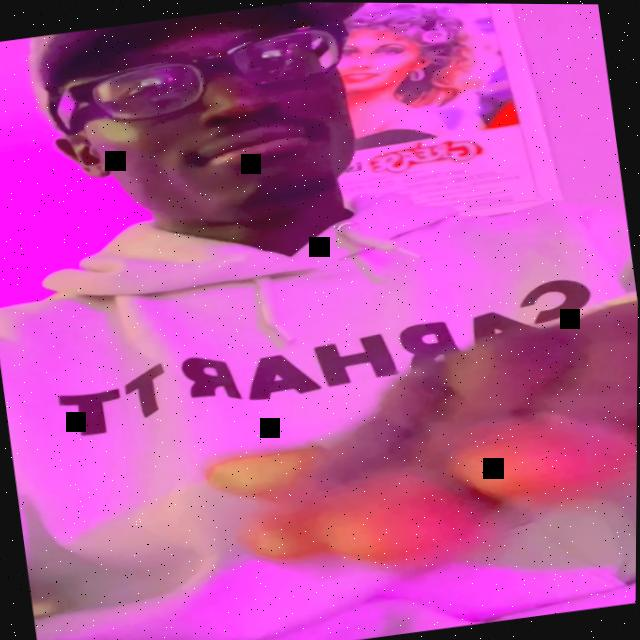Paper: (189, 299, 638, 587)
